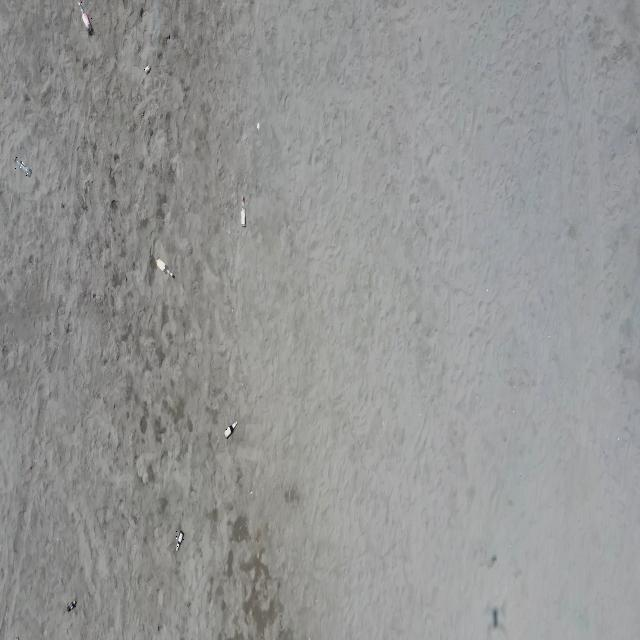glass: (78, 1, 92, 32), (14, 156, 32, 176), (156, 256, 173, 277), (224, 421, 238, 439), (240, 194, 246, 229), (176, 530, 184, 552), (67, 599, 76, 611), (144, 64, 150, 74)
